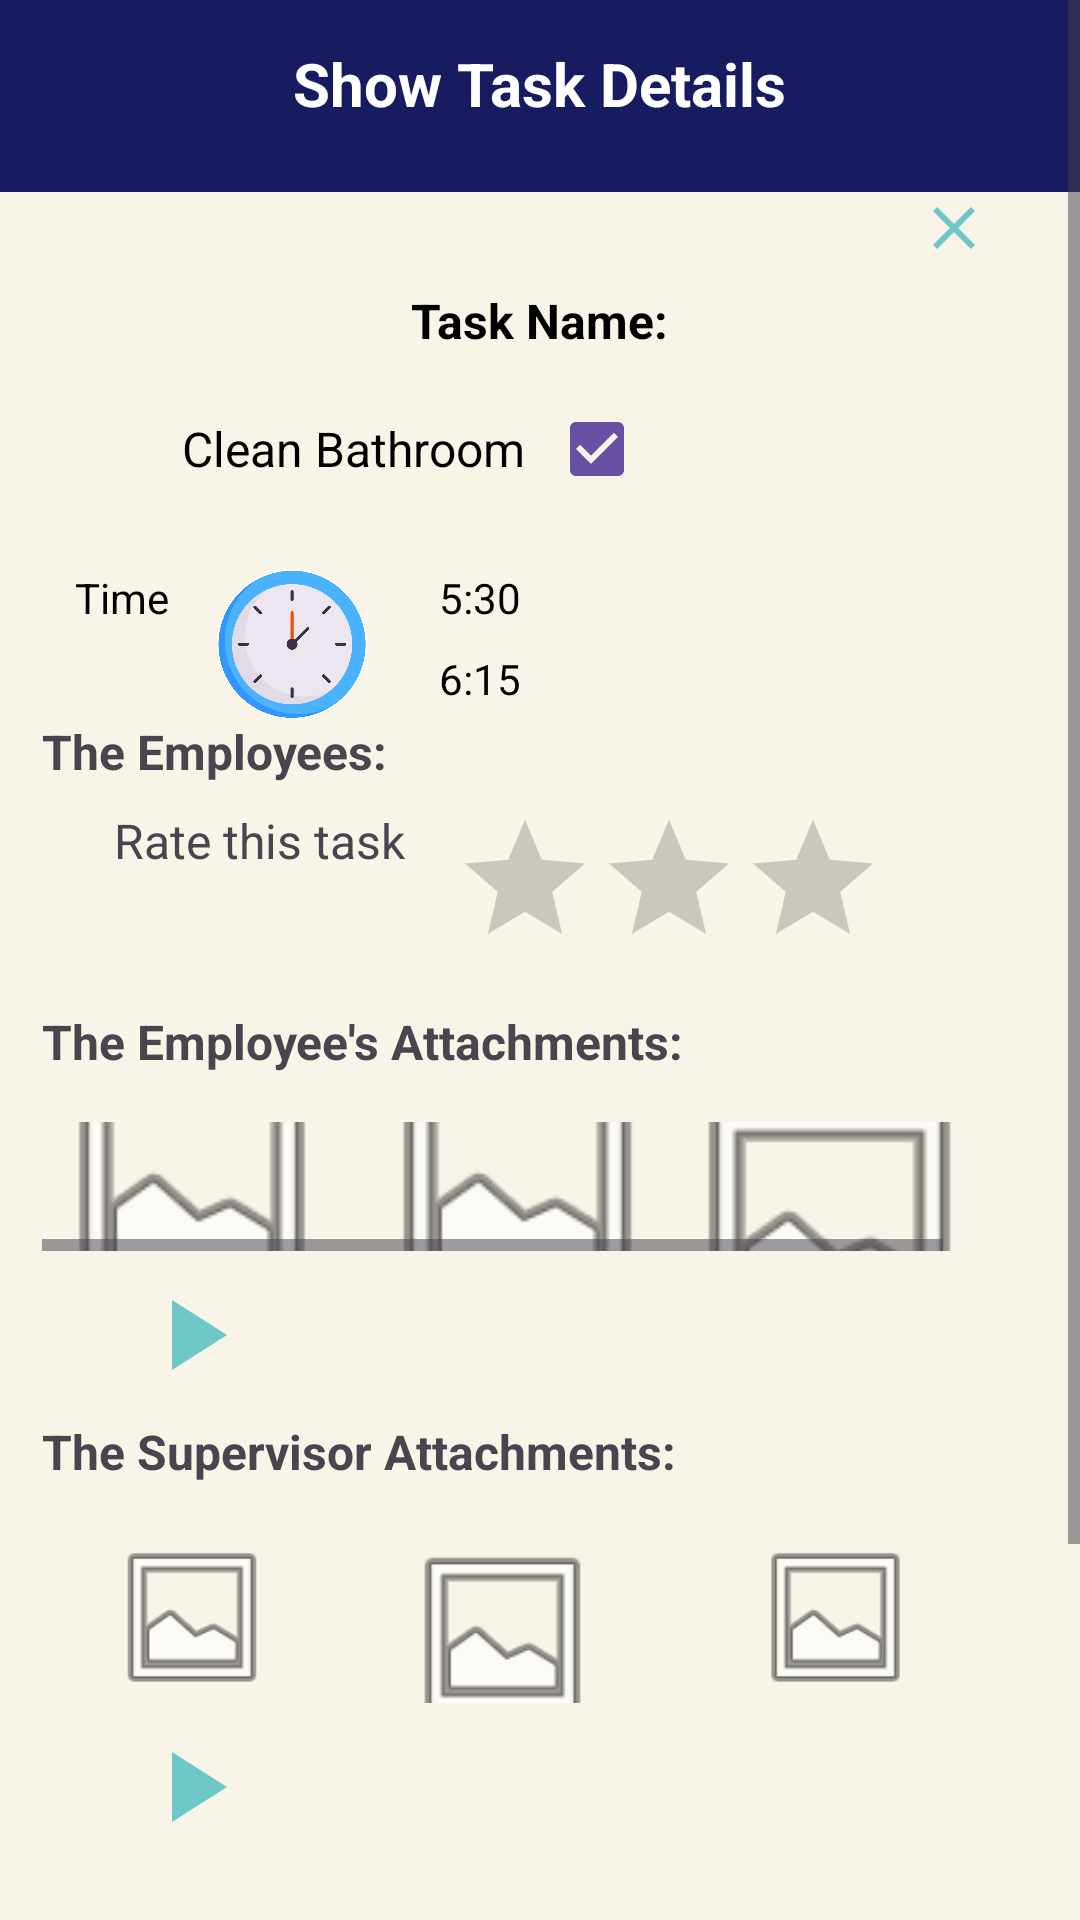

Icon bounding boxes for this 1080*1920 phone screenshot, format (x1, y1, x2, y2):
clock: (217, 569, 367, 719)
close: (933, 207, 975, 249)
play arrow: (172, 1300, 227, 1370), (172, 1752, 227, 1822)
